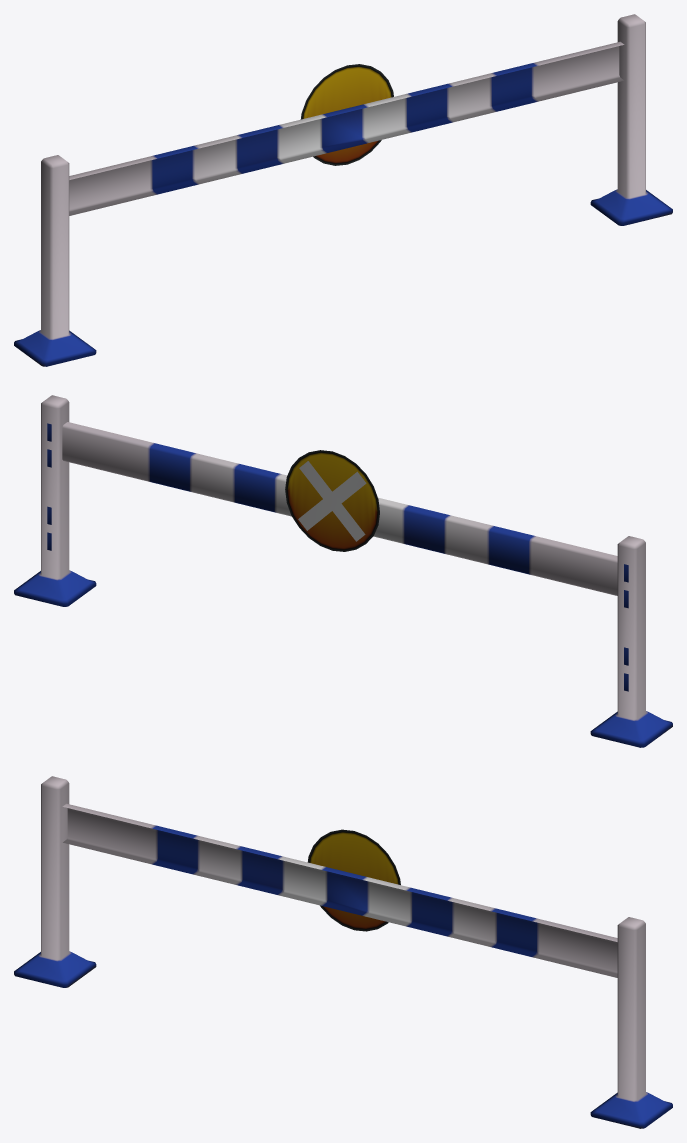
Rendered from RoadWorksBarrierHigh.fbx.
3 views of the same model, one above another, from view 1: azimuth 30°, elevation 25°; view 2: azimuth 150°, elevation 25°; view 3: azimuth 330°, elevation 25° (orthographic).
Visible parts, largest first — view 1: RoadWorksBarrierHigh; view 2: RoadWorksBarrierHigh; view 3: RoadWorksBarrierHigh.
Boxes of the visible parts, left/top/right/bottom form: RoadWorksBarrierHigh: left=14, top=14, right=672, bottom=366; RoadWorksBarrierHigh: left=14, top=395, right=672, bottom=747; RoadWorksBarrierHigh: left=14, top=776, right=672, bottom=1128.
Bounding box in the file's own units: 497 × 158 × 42.57.
